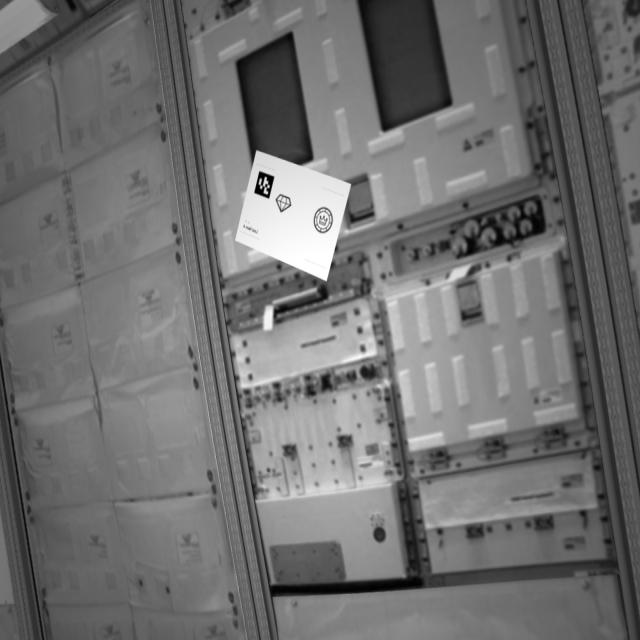coin: (313, 205, 335, 237)
diamond: (273, 193, 296, 217)
